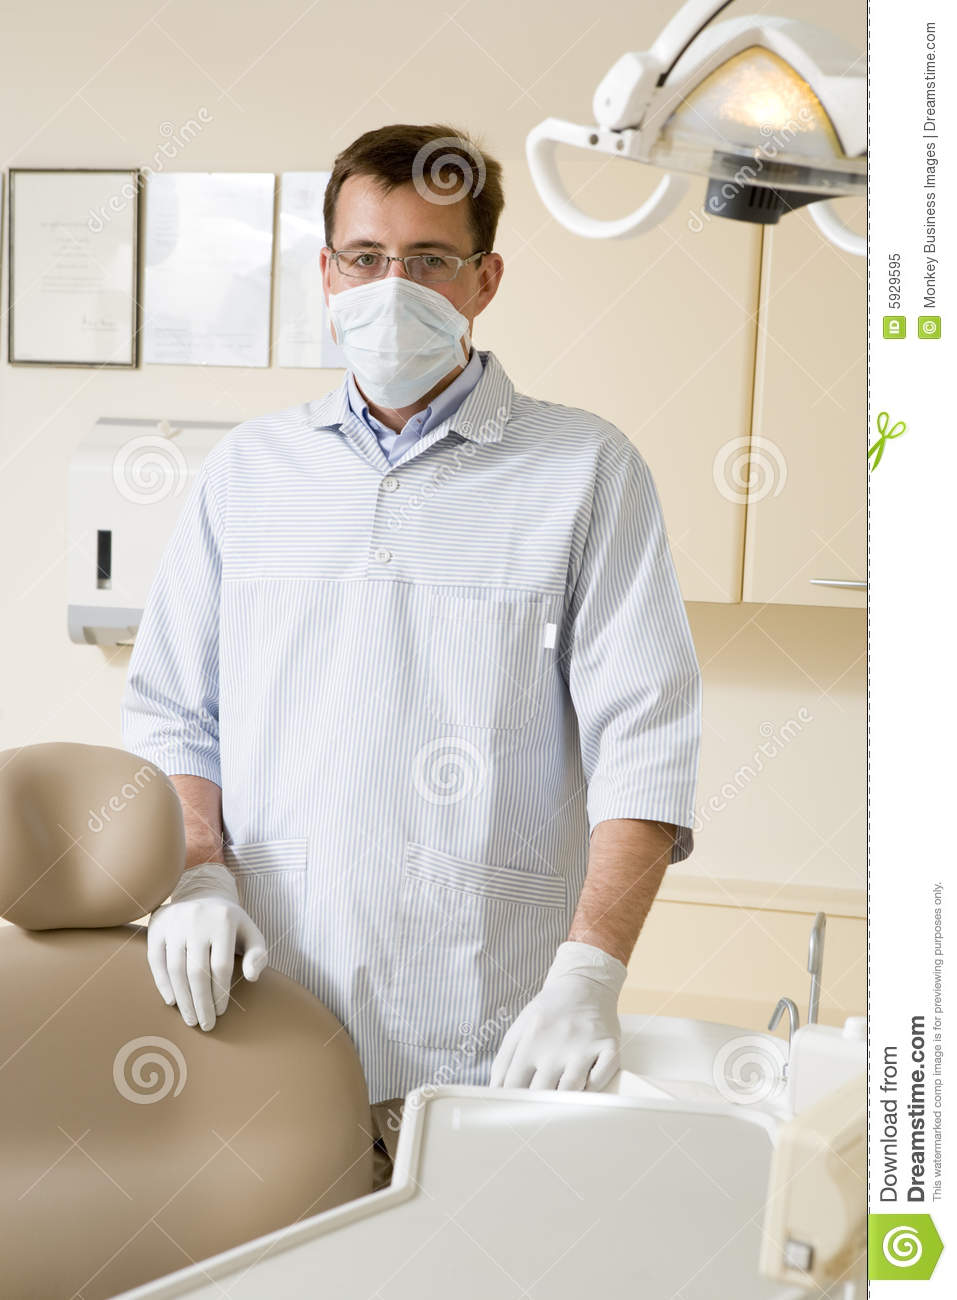mask: (328, 279, 474, 405)
